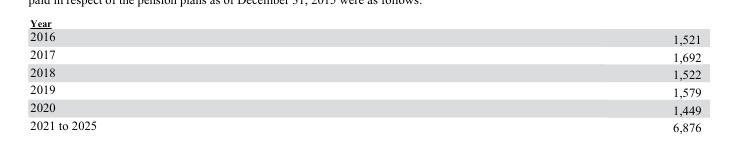table: (29, 29, 700, 134)
table column: (29, 29, 384, 134), (384, 29, 700, 134)
table row: (29, 63, 700, 81), (29, 81, 700, 99), (29, 116, 700, 134), (29, 29, 700, 46), (29, 46, 700, 63), (29, 99, 700, 116)
